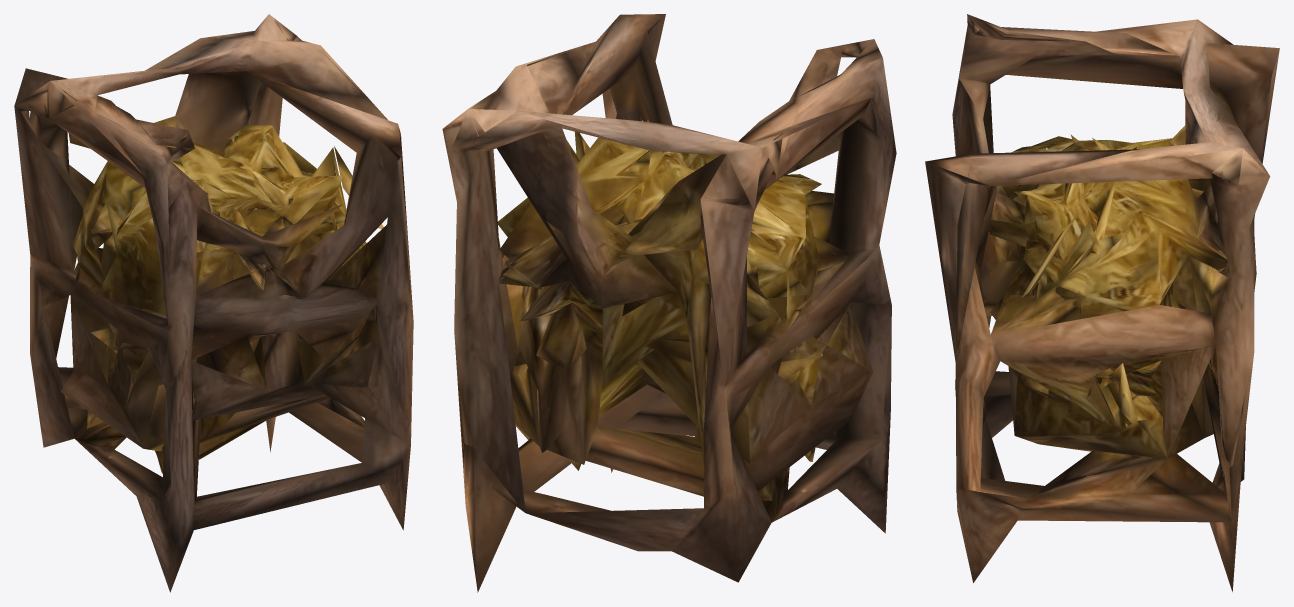
Rendered from cs_hayrack.glb.
The picture shows the model from 3 angles, left to right: view 1: azimuth 30°, elevation 25°; view 2: azimuth 150°, elevation 25°; view 3: azimuth 270°, elevation 25°; orthographic projection. The views are drawn at different scales.
Parts seen in each view (by area): view 1: tripo_node_55d2e6bd-638d-4eec-aeb1-ec2d517261ef; view 2: tripo_node_55d2e6bd-638d-4eec-aeb1-ec2d517261ef; view 3: tripo_node_55d2e6bd-638d-4eec-aeb1-ec2d517261ef.
Boxes of the visible parts, x1,y1,x2,y2 form: tripo_node_55d2e6bd-638d-4eec-aeb1-ec2d517261ef: [14, 14, 413, 592]; tripo_node_55d2e6bd-638d-4eec-aeb1-ec2d517261ef: [442, 14, 896, 592]; tripo_node_55d2e6bd-638d-4eec-aeb1-ec2d517261ef: [925, 14, 1279, 591].
Size of the model in its own units: 0.6457 by 1 by 0.6893.
1 material, 1 textured.
